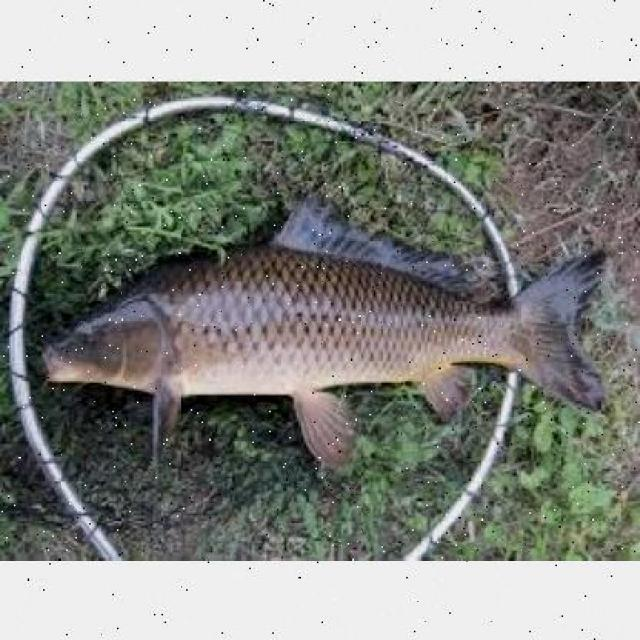ikan-mas: (47, 218, 621, 447)
